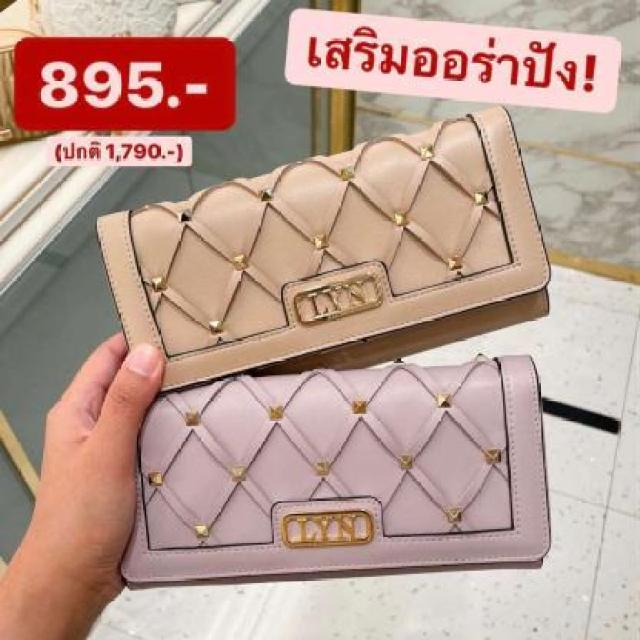Bag: (54, 83, 601, 399), (83, 339, 575, 599)
